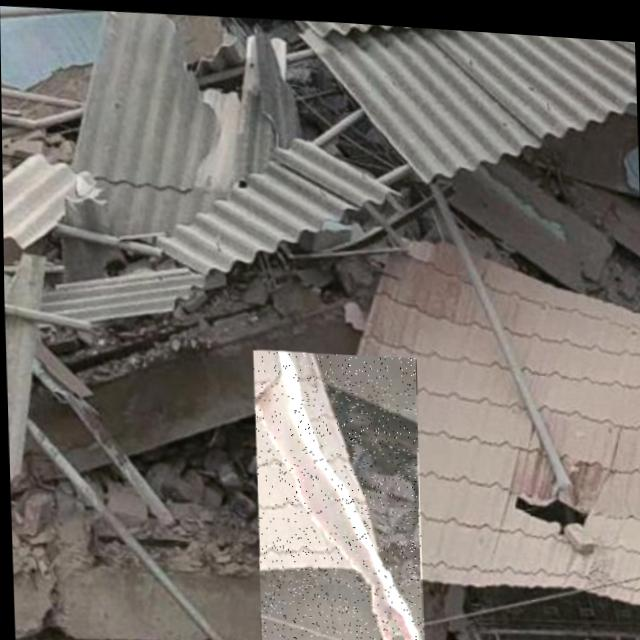Person in Rubble: (251, 343, 423, 640)
